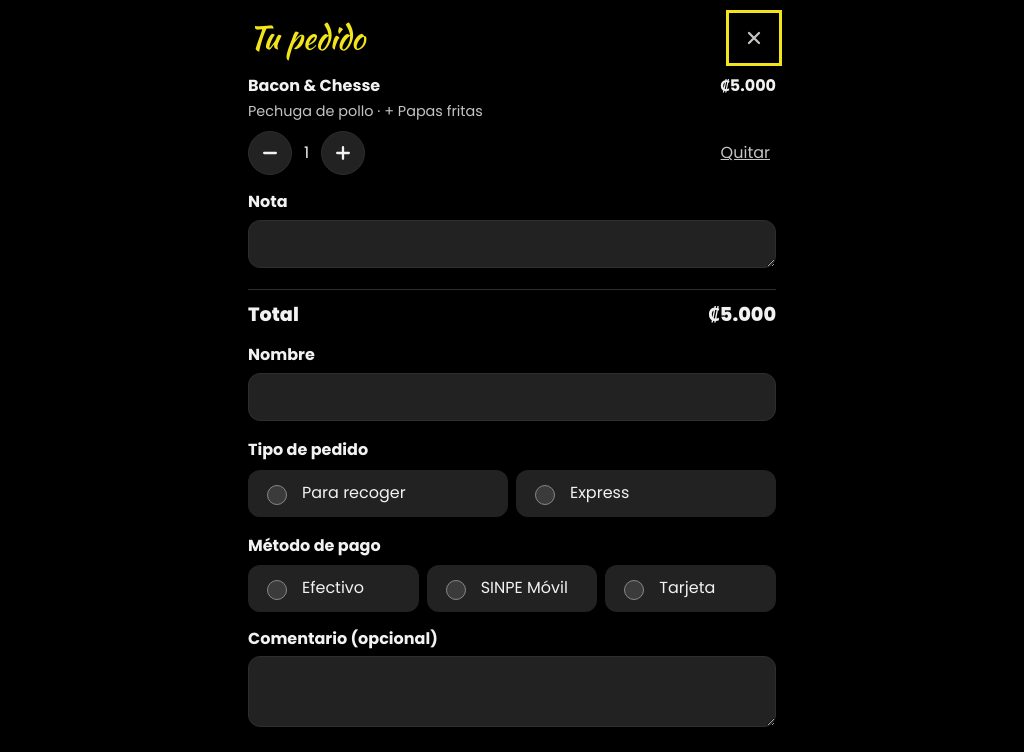
OrderView › "No, volver al pedido" no vacía el carrito
Type "Ana" into the field labelled "Nombre" at (512, 397), box [248,373,776,421]
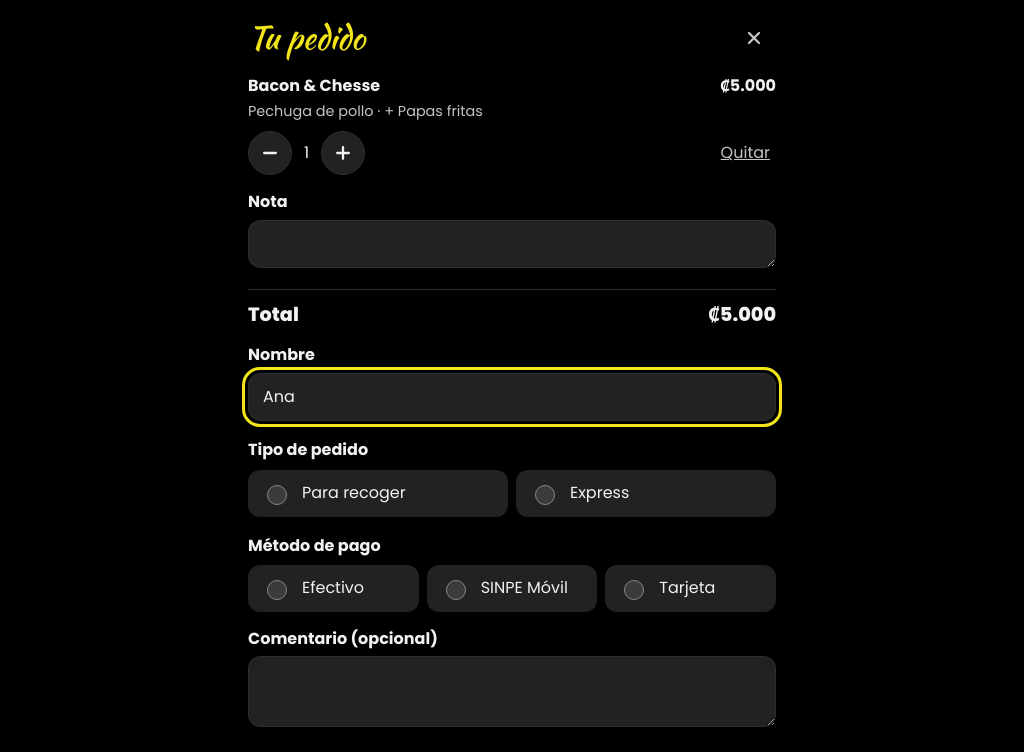
Click the radio button labelled "Para recoger" at (277, 495), box [267,485,287,505]
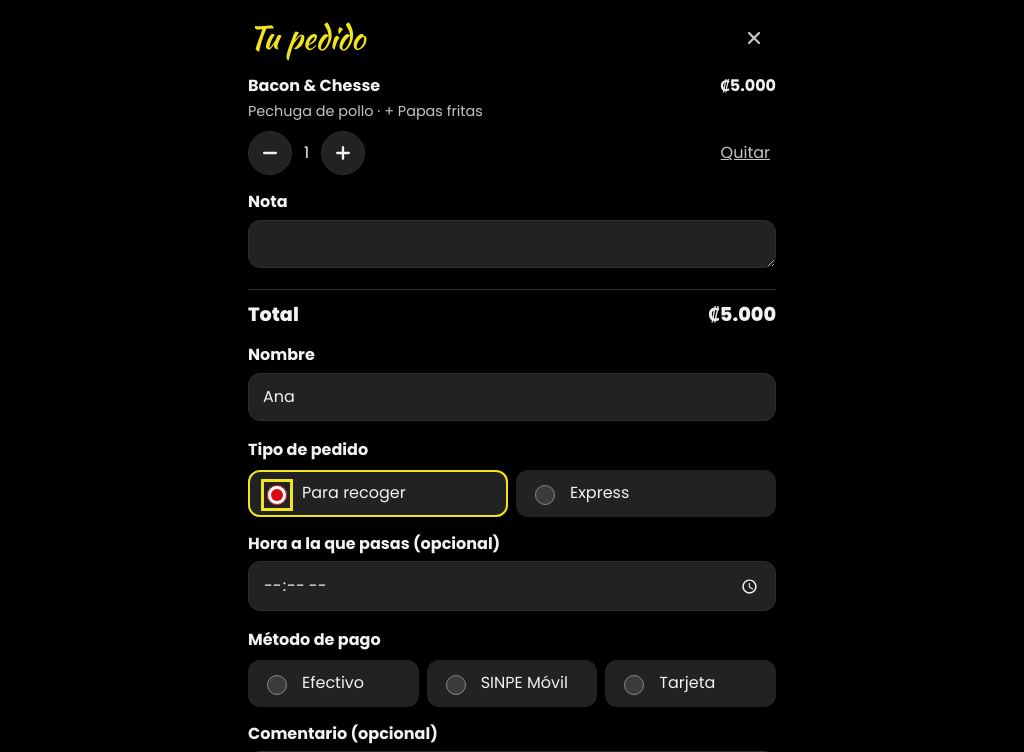
Click the radio button labelled "Efectivo" at (277, 685), box [267,675,287,695]
(page scrolled)
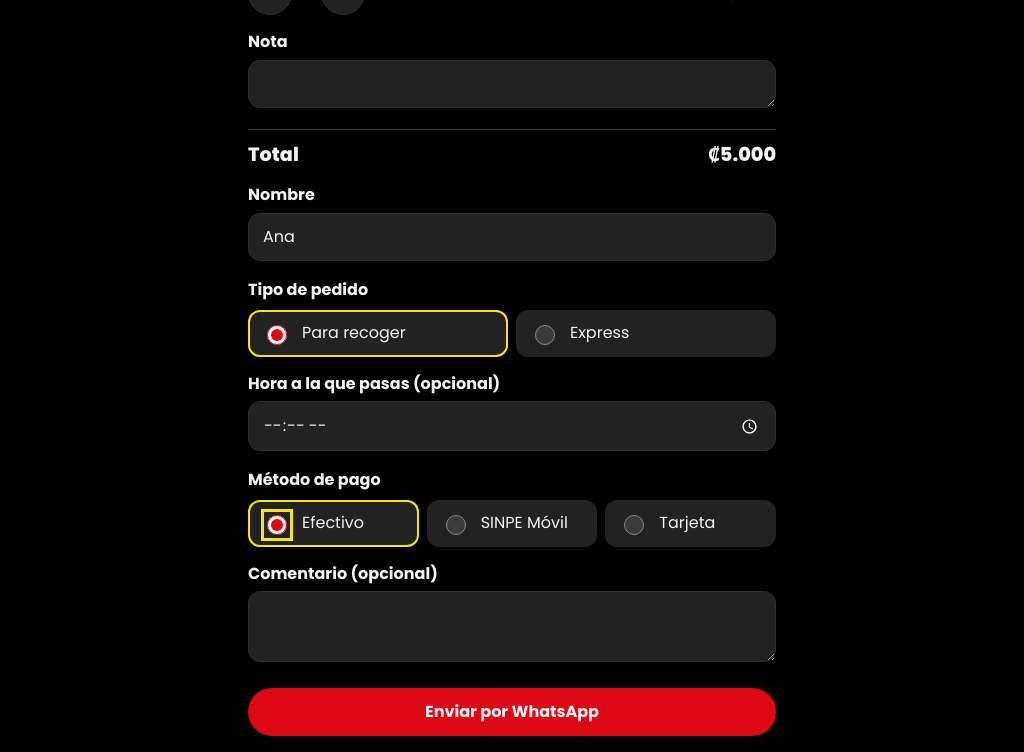
Click the button "Enviar por WhatsApp" at (512, 712), box [248,688,776,736]
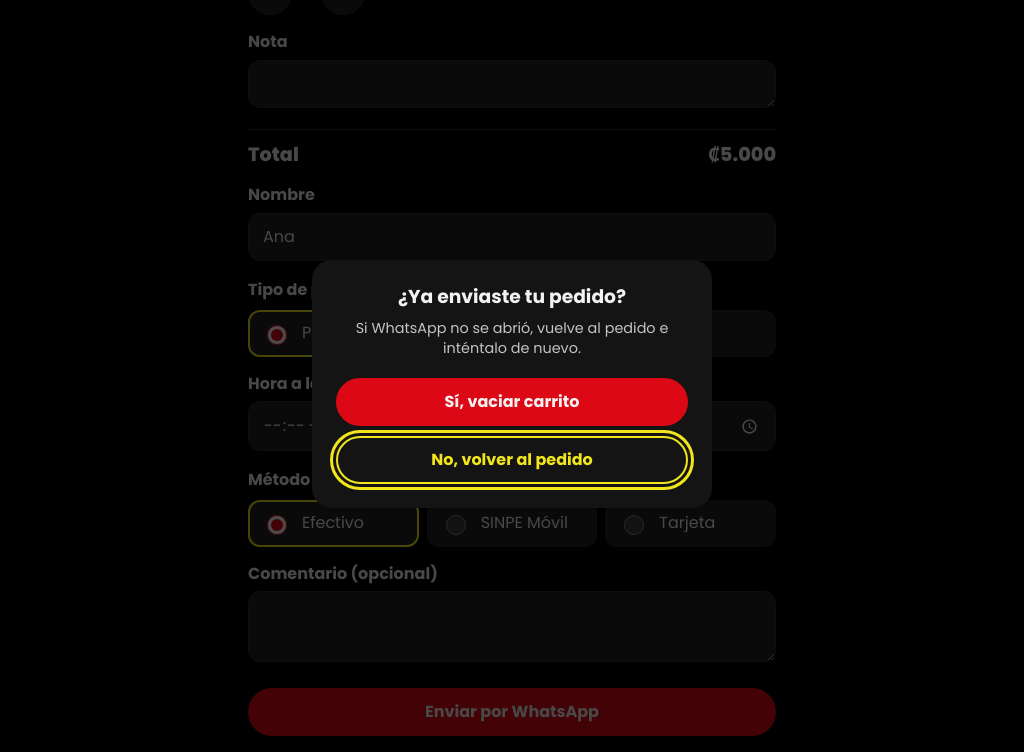
Click the button "No, volver al pedido" at (512, 460), box [336,436,688,484]
(page scrolled)
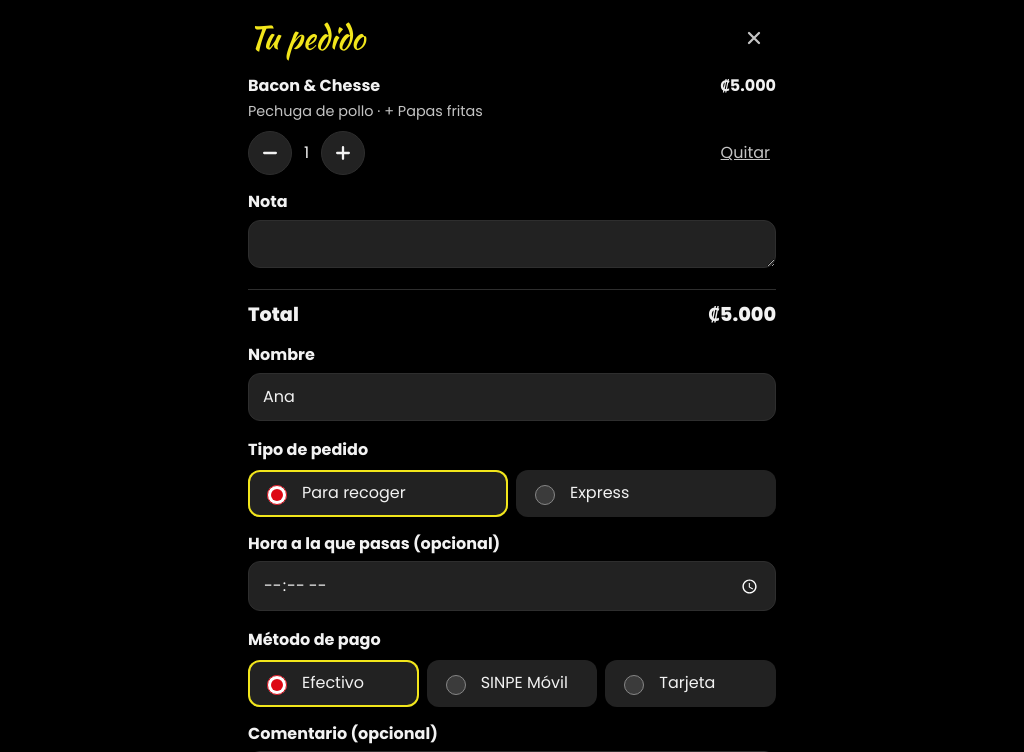
Expected: the heading "¿Ya enviaste tu pedido?" is gone
Expected: the text "Bacon & Chesse" is shown, [248,75,380,97]
